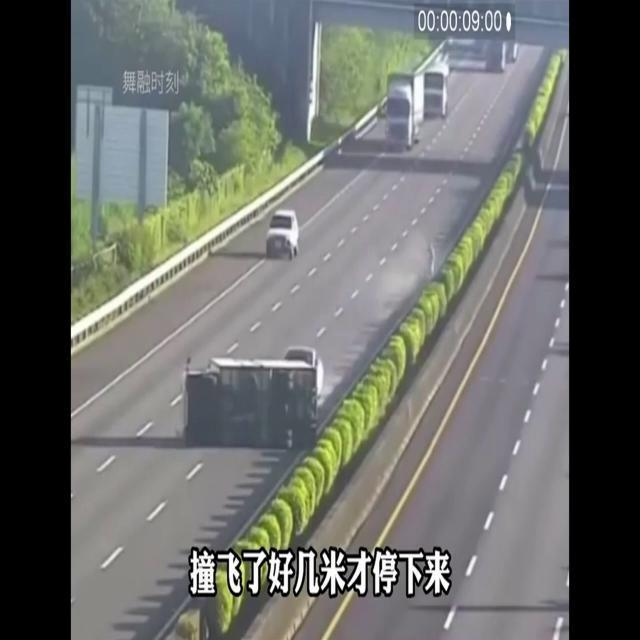accident: (178, 344, 326, 456)
non-accident: (380, 64, 450, 154)
